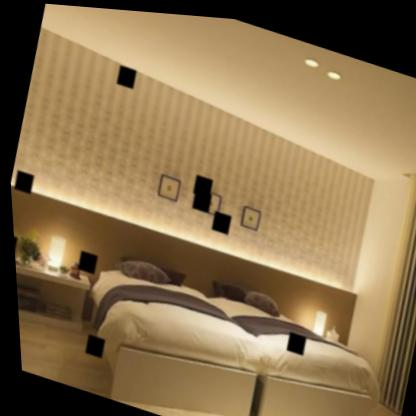Bed: (61, 236, 273, 416), (184, 260, 396, 416)
Frame: (148, 165, 184, 204)
Nightstand: (11, 241, 99, 344)
